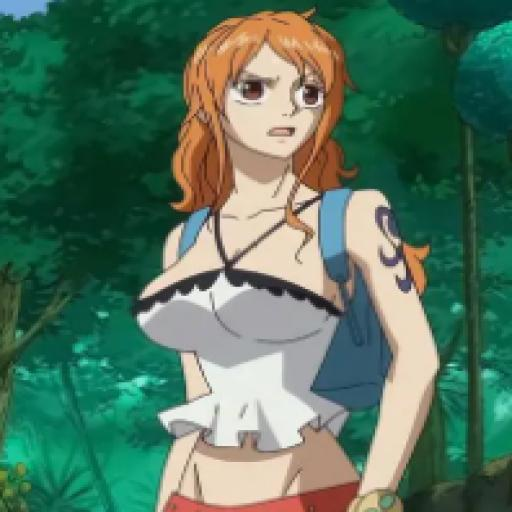Nami: (21, 8, 462, 509)
